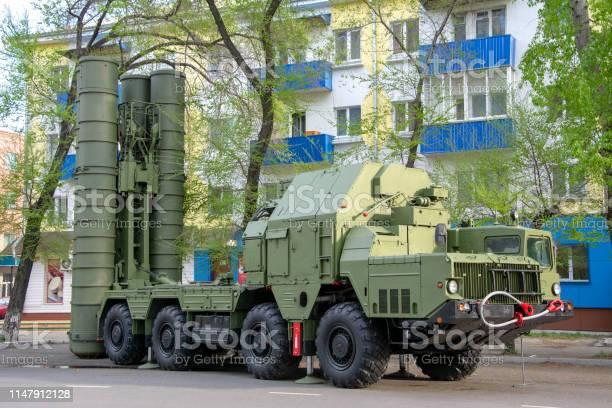MIL_SAM_TEL: (67, 47, 566, 386)
